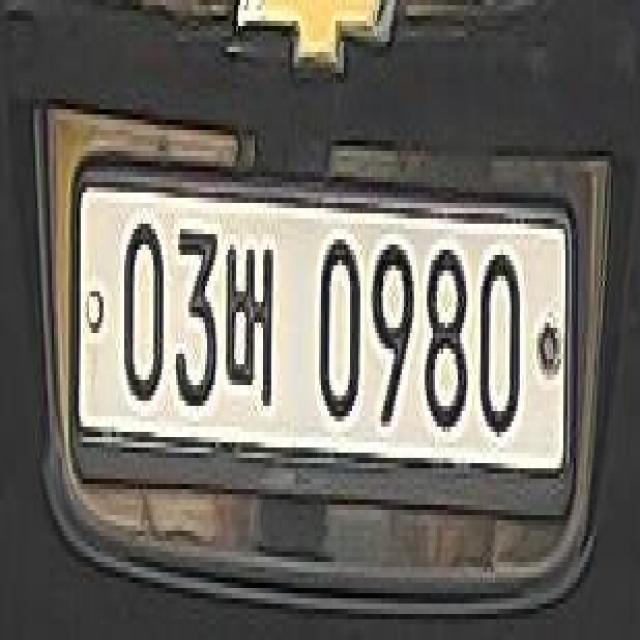illegal_plate: (72, 154, 578, 527)
